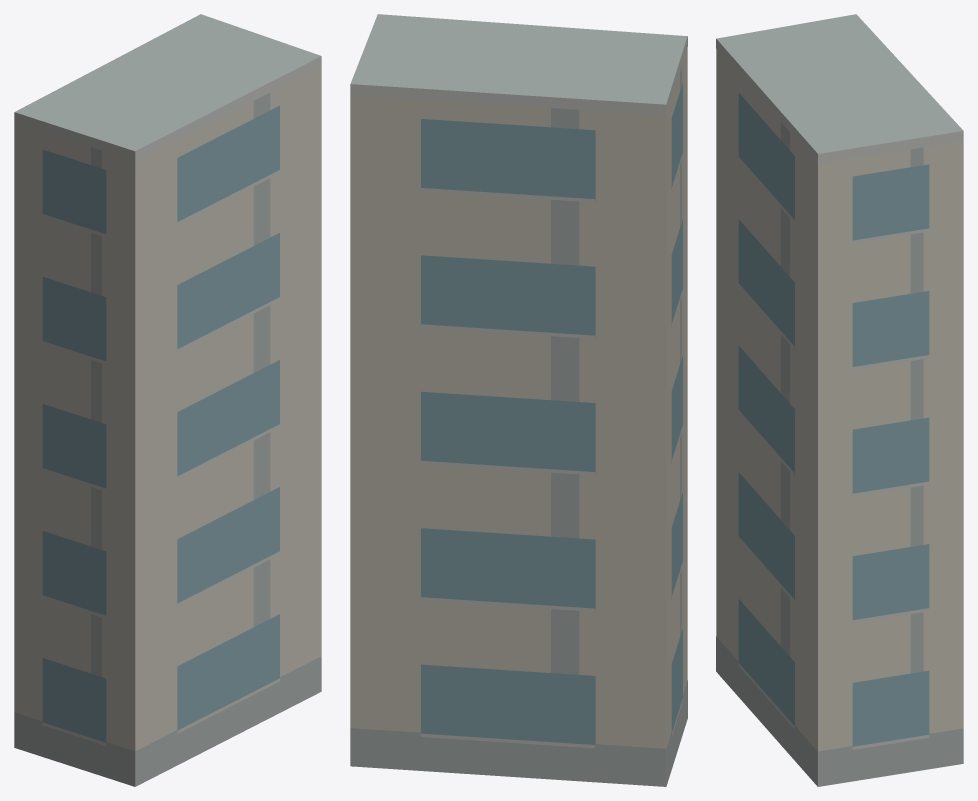
The model's file is survey-upis-32583851.glb.
3 renders of one model, left to right at view 1: azimuth 30°, elevation 25°; view 2: azimuth 150°, elevation 25°; view 3: azimuth 270°, elevation 25°, orthographic. The views are drawn at different scales.
Parts seen in each view (by area): view 1: survey-upis-32583851.tmp; view 2: survey-upis-32583851.tmp; view 3: survey-upis-32583851.tmp.
Part boxes in pixels (x1,y1,x2,y2): survey-upis-32583851.tmp: (14, 14, 321, 786); survey-upis-32583851.tmp: (350, 14, 687, 786); survey-upis-32583851.tmp: (716, 14, 963, 786).
Size of the model in its own units: 7.24 by 15.25 by 5.41.
